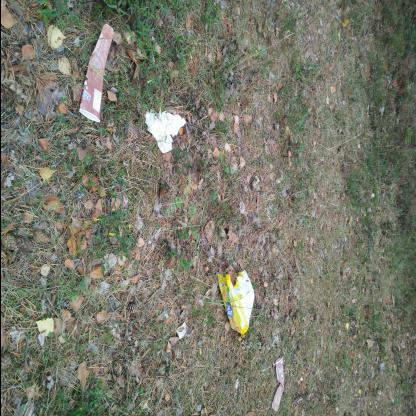kagit: (264, 145, 308, 187)
karton: (295, 78, 394, 114), (6, 271, 62, 285)
plastik: (80, 218, 148, 256)
